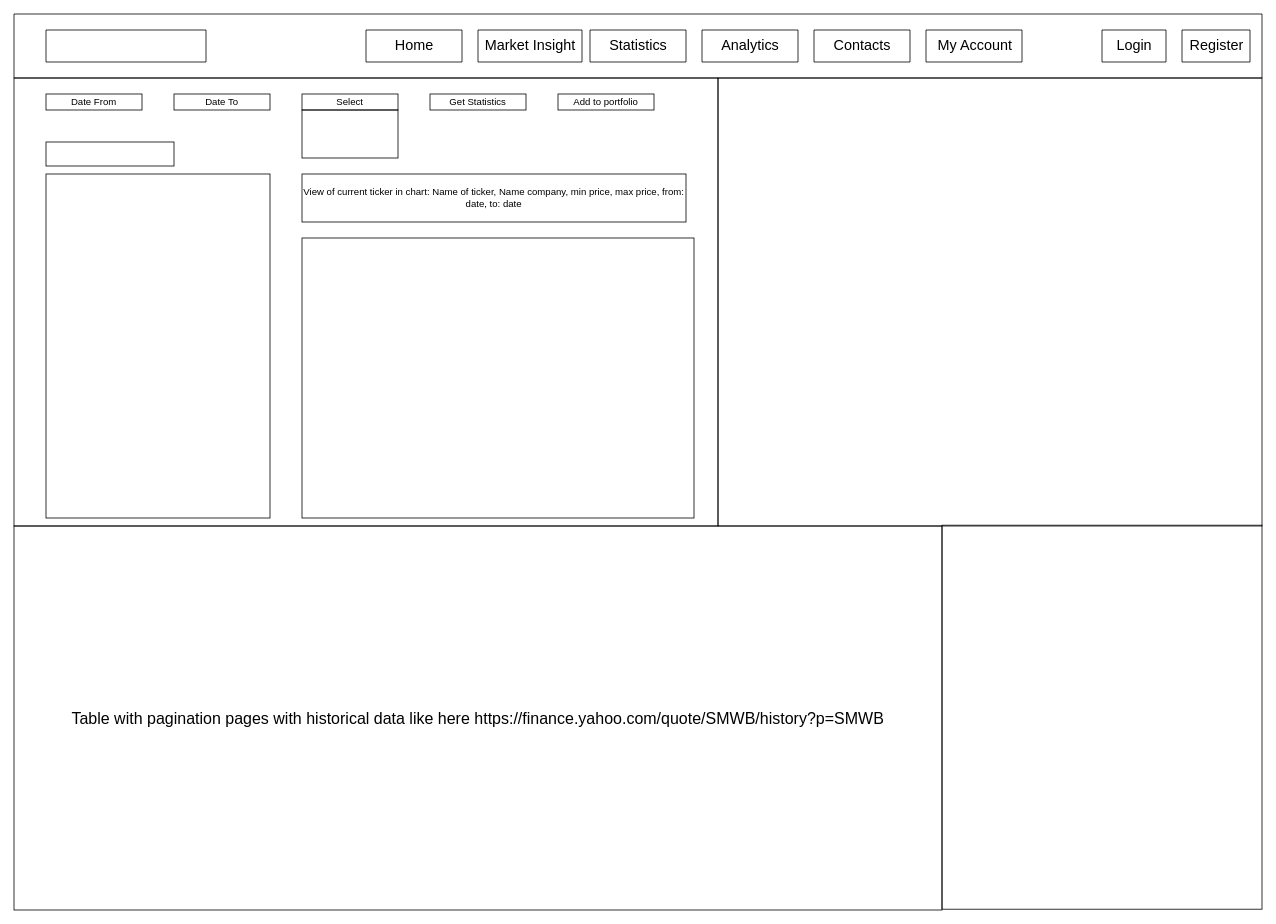
Some shapes in this 1276 by 924 pixel diagram are drawn without their labels. The centre of each missing label's shape, as x and y in pixels:
Chart: point (497, 377)
Daily Weekly Monthly: point (349, 133)
Input find ticker: point (109, 153)
Logo: point (125, 45)
Recommendation trends Block with little bar chart with recommendation: point (1101, 716)
Statistic block: point (989, 301)
Table with all tickers from Home page: point (157, 345)
